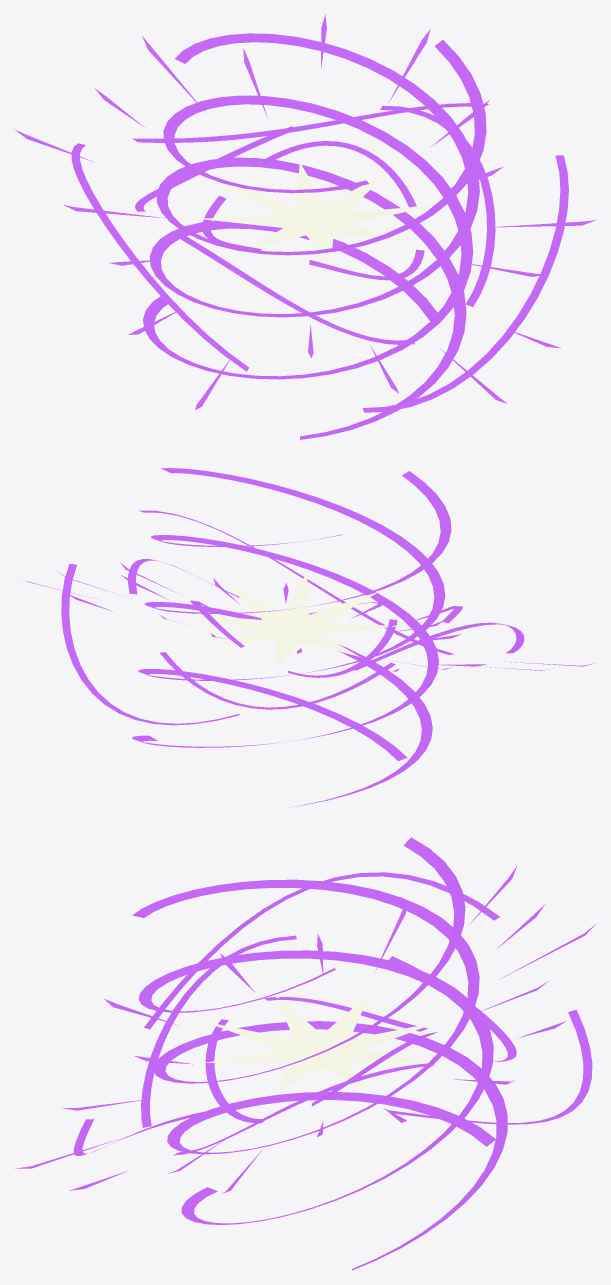
File: dodgeball.glb
The picture shows the model from 3 angles, top to bottom: view 1: azimuth 30°, elevation 25°; view 2: azimuth 150°, elevation 25°; view 3: azimuth 270°, elevation 25°; orthographic projection. The views are drawn at different scales.
Parts seen in each view (by area): view 1: OrbitRibbons.003, Core.003, SparkRays.003; view 2: OrbitRibbons.003, Core.003, SparkRays.003; view 3: OrbitRibbons.003, Core.003, SparkRays.003.
Part boxes in pixels (x1,y1,x2,y2): OrbitRibbons.003: (71, 33, 568, 439); Core.003: (198, 162, 433, 261); SparkRays.003: (15, 14, 596, 409); OrbitRibbons.003: (61, 468, 524, 807); Core.003: (181, 573, 402, 665); SparkRays.003: (24, 562, 593, 671); OrbitRibbons.003: (73, 837, 592, 1270); Core.003: (205, 993, 438, 1091); SparkRays.003: (15, 866, 595, 1193).
Bounding box in the file's own units: 0.2359 × 0.1532 × 0.2406.
